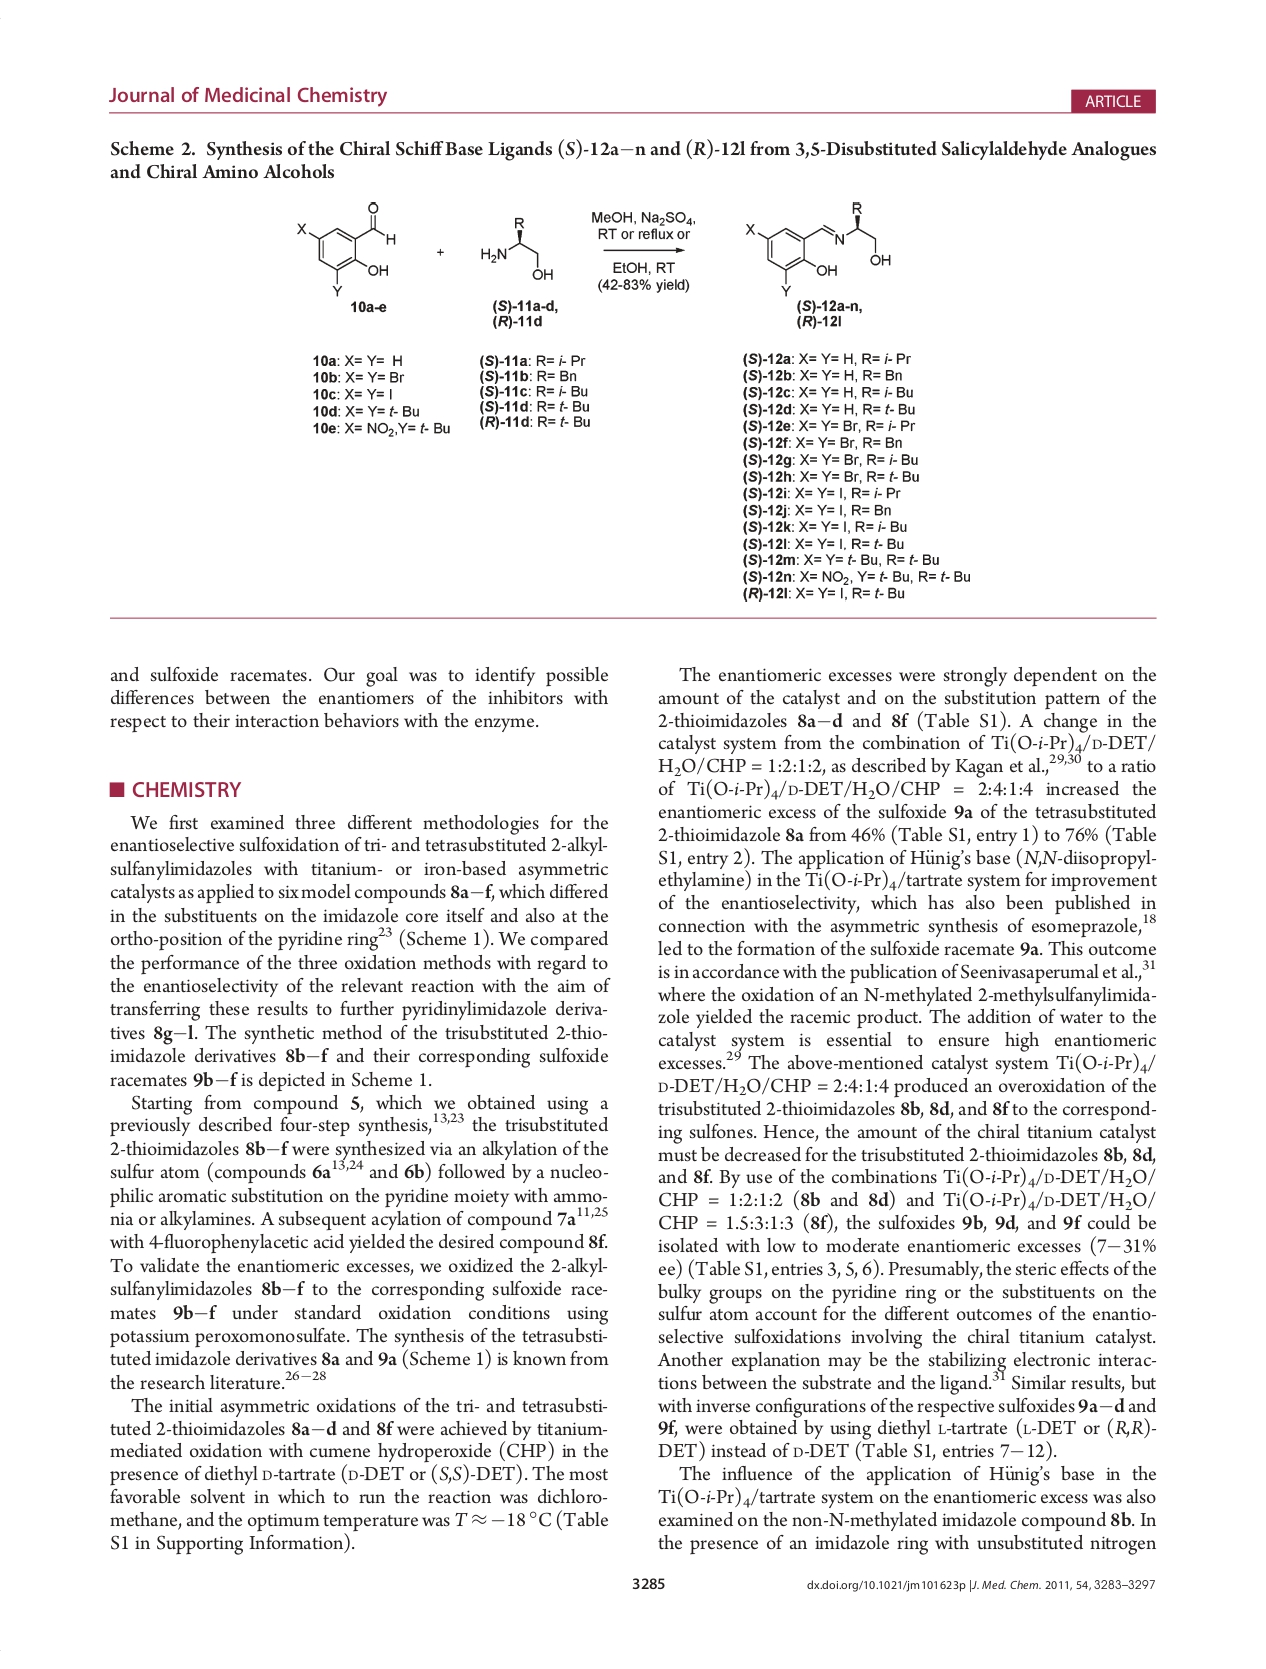exist_molecular: (743, 197, 894, 298), (293, 197, 398, 298), (475, 214, 559, 283)
